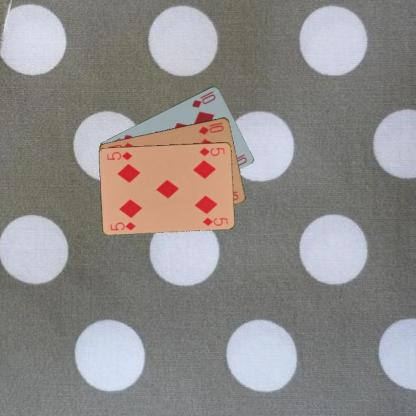10d: (189, 88, 217, 108), (196, 120, 225, 136)
5d: (107, 219, 137, 232), (197, 145, 226, 157)
